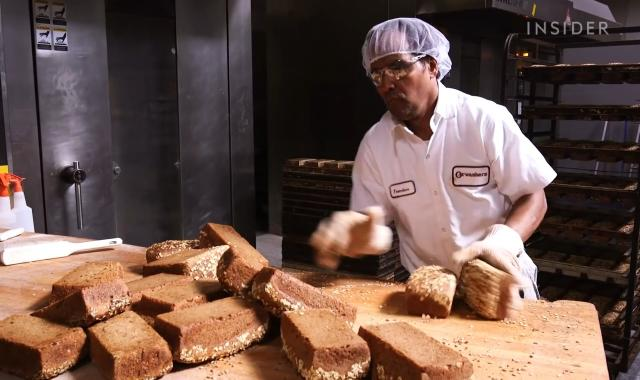hairnet: (358, 17, 454, 78)
